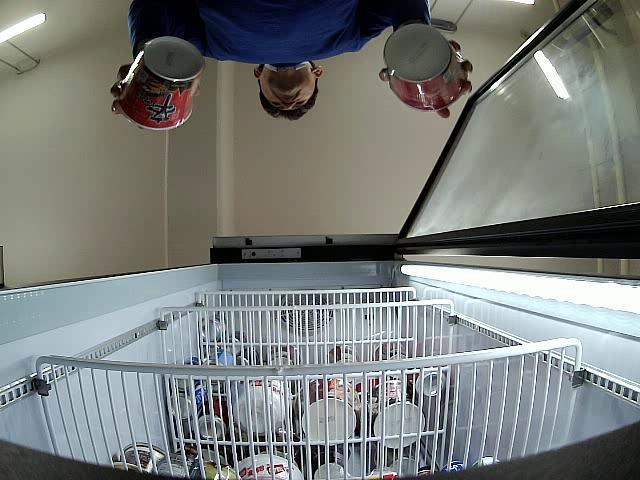00_hand: (379, 41, 473, 119), (110, 65, 201, 115)
01_shinRamen_L: (117, 37, 205, 131), (384, 24, 467, 111)
